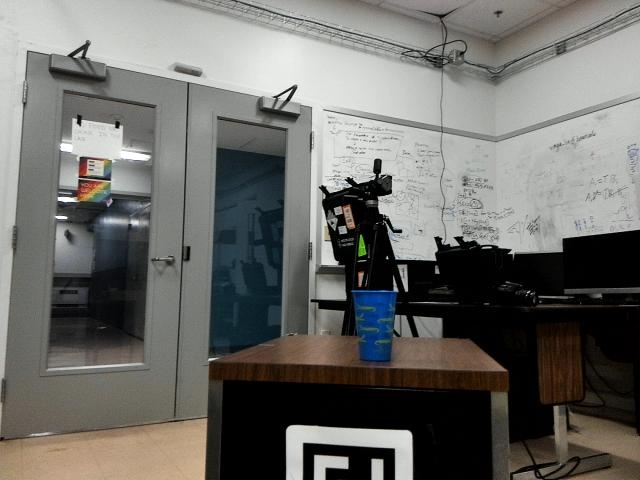water_cup: (345, 285, 408, 367)
